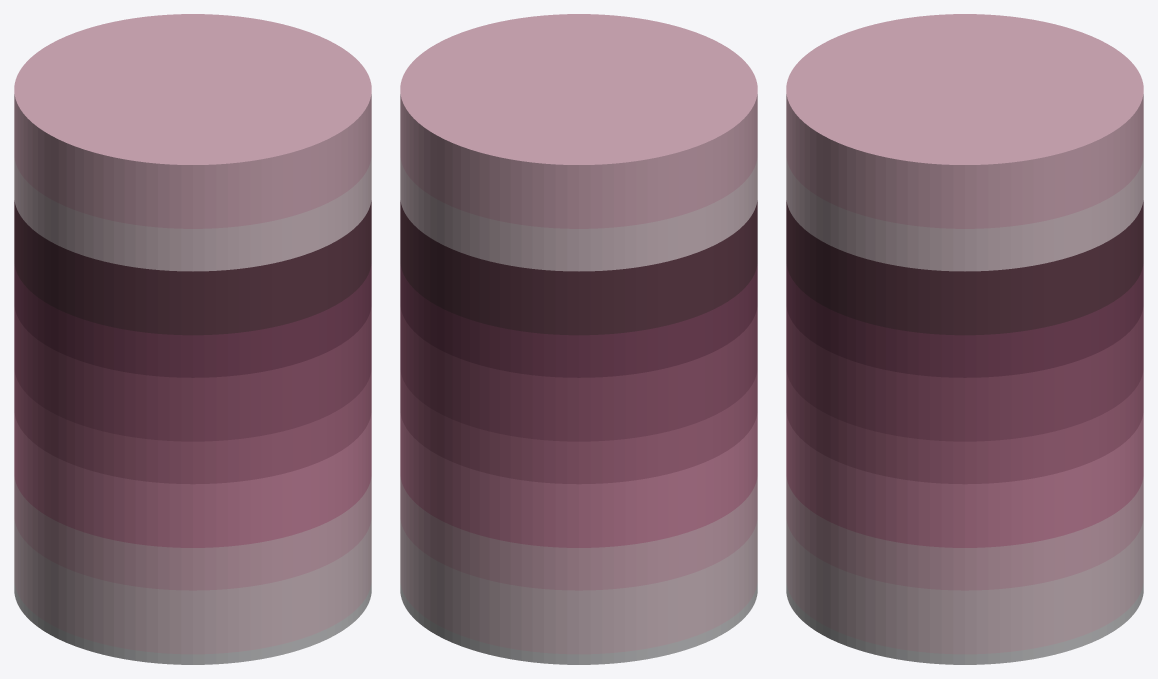
The model's file is cake_6in_layers5.glb.
3 views of the same model, side by side, from view 1: azimuth 30°, elevation 25°; view 2: azimuth 150°, elevation 25°; view 3: azimuth 270°, elevation 25° (orthographic).
Parts seen in each view (by area): view 1: geometry_8, geometry_0, geometry_4, geometry_6, geometry_2, geometry_7, geometry_1, geometry_3, geometry_5, geometry_9; view 2: geometry_8, geometry_0, geometry_4, geometry_6, geometry_2, geometry_7, geometry_1, geometry_3, geometry_5, geometry_9; view 3: geometry_8, geometry_0, geometry_4, geometry_6, geometry_2, geometry_7, geometry_1, geometry_3, geometry_5, geometry_9.
Boxes of the visible parts, left/top/right/bottom form: geometry_8: left=14, top=14, right=371, bottom=228; geometry_0: left=14, top=519, right=371, bottom=654; geometry_4: left=14, top=307, right=371, bottom=441; geometry_6: left=14, top=200, right=371, bottom=335; geometry_2: left=14, top=413, right=371, bottom=547; geometry_7: left=14, top=158, right=371, bottom=271; geometry_1: left=14, top=477, right=371, bottom=590; geometry_3: left=14, top=370, right=371, bottom=484; geometry_5: left=14, top=264, right=371, bottom=377; geometry_9: left=14, top=583, right=371, bottom=664; geometry_8: left=400, top=14, right=757, bottom=228; geometry_0: left=400, top=519, right=757, bottom=654; geometry_4: left=400, top=307, right=757, bottom=441; geometry_6: left=400, top=200, right=757, bottom=335; geometry_2: left=400, top=413, right=757, bottom=547; geometry_7: left=400, top=158, right=757, bottom=271; geometry_1: left=400, top=477, right=757, bottom=590; geometry_3: left=400, top=370, right=757, bottom=484; geometry_5: left=400, top=264, right=757, bottom=377; geometry_9: left=400, top=583, right=757, bottom=664; geometry_8: left=786, top=14, right=1143, bottom=228; geometry_0: left=786, top=519, right=1143, bottom=654; geometry_4: left=786, top=307, right=1143, bottom=441; geometry_6: left=786, top=200, right=1143, bottom=335; geometry_2: left=786, top=413, right=1143, bottom=547; geometry_7: left=786, top=158, right=1143, bottom=271; geometry_1: left=786, top=477, right=1143, bottom=590; geometry_3: left=786, top=370, right=1143, bottom=484; geometry_5: left=786, top=264, right=1143, bottom=377; geometry_9: left=786, top=583, right=1143, bottom=664.
Bounding box in the file's own units: 0.1524 × 0.235 × 0.1524.
